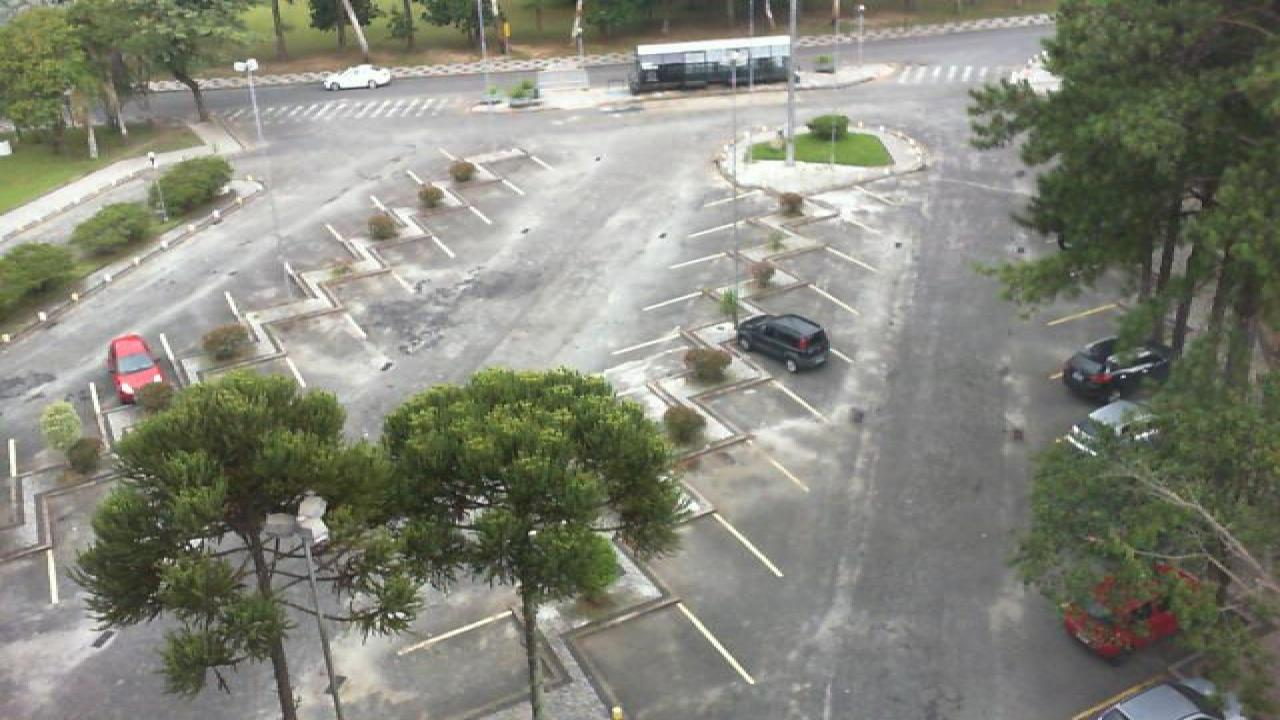Car: (1062, 562, 1180, 665), (1062, 335, 1172, 404), (1064, 400, 1168, 461), (734, 314, 834, 374), (1092, 679, 1222, 720), (106, 333, 166, 407), (322, 64, 396, 90)
